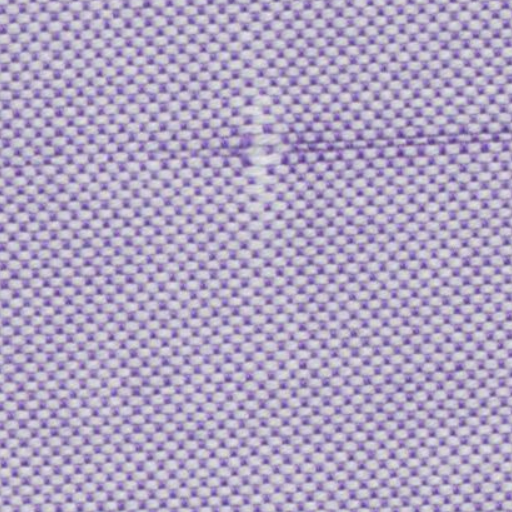DaiSha: (204, 82, 350, 194)
